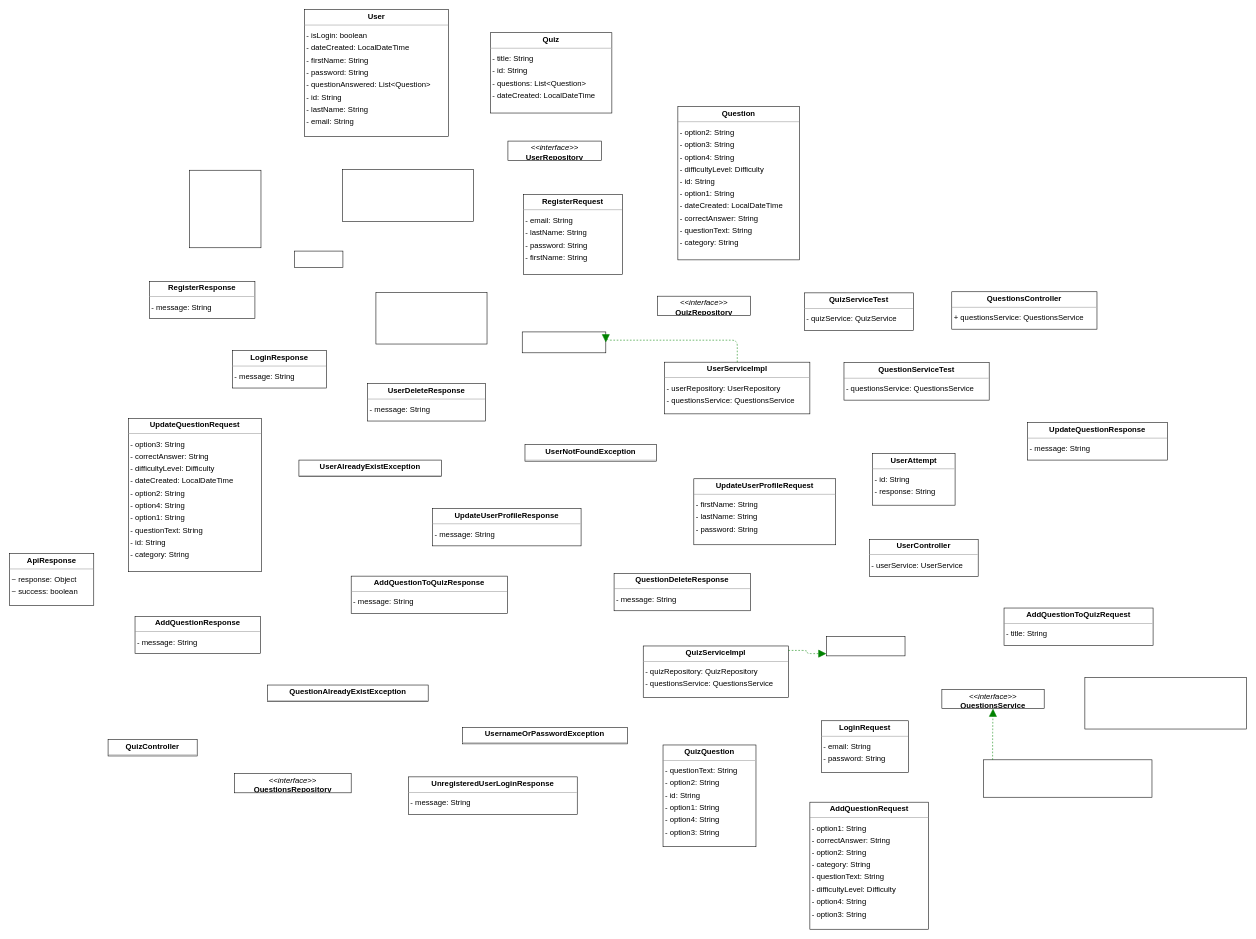
This 1256x939 diagram has some shape labels left out. Here are the shapes that lost their labels. From the top down, the centre of each, then its label:
point (225, 209): <<enumeration>> Difficulty + EASY: + MEDIUM: + HARD:
point (407, 195): UserServiceTest - userService: UserService - userRepository: UserRepository
point (318, 259): Main
point (431, 318): UserDeleteRequest - email: String - password: String
point (564, 342): <<interface>> UserService
point (865, 646): <<interface>> QuizService
point (1165, 703): UnregisteredUserLoginRequest - email: String - password: String
point (1067, 778): QuestionsServiceImpl - questionsRepository: QuestionsRepository
